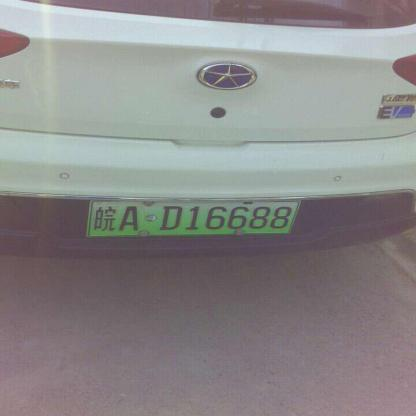lp: (89, 202, 298, 236)
